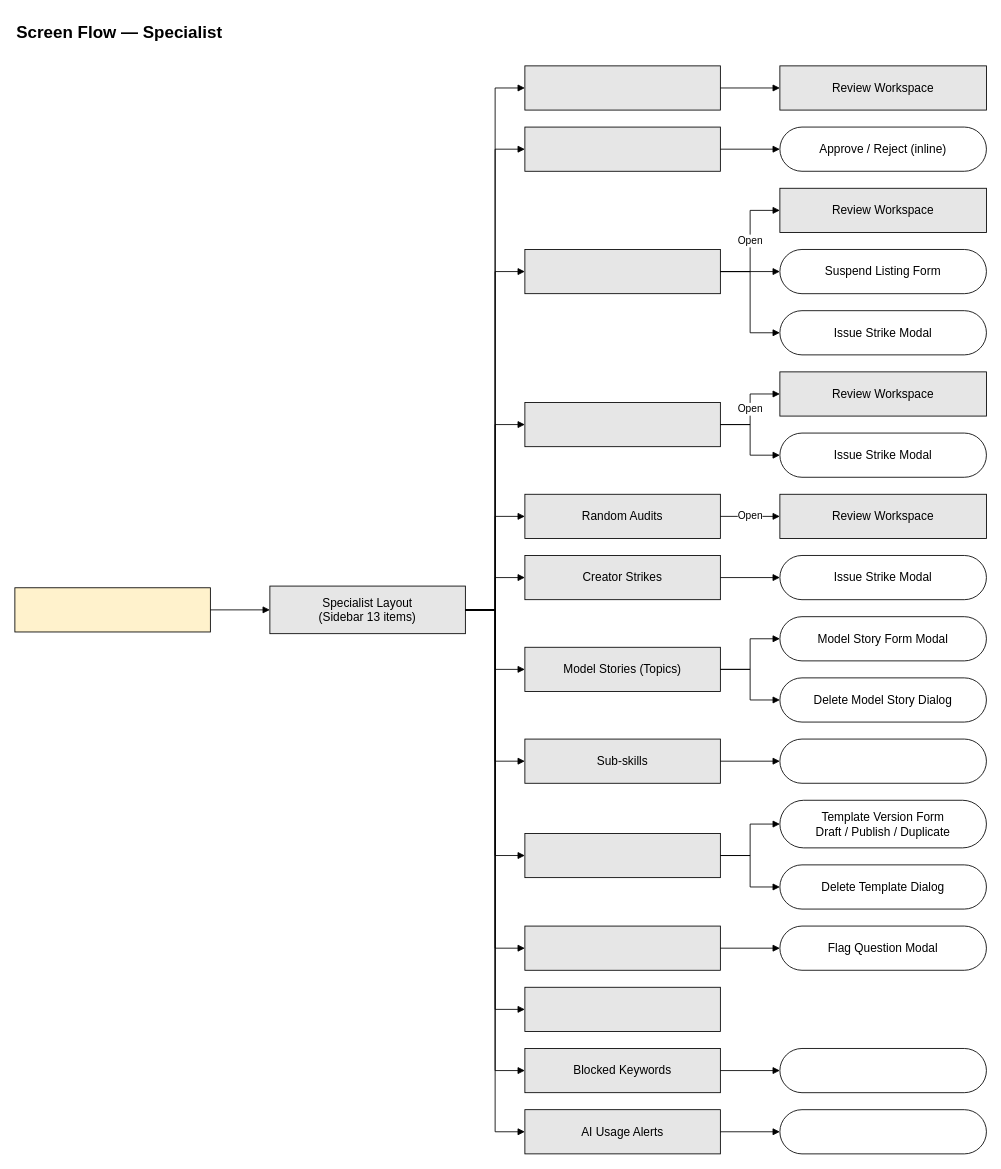
Some shapes in this 1001 by 1169 pixel diagram are drawn without their labels. The shapes that lost their labels are listed below. From the top down, each one's centre as x and y in pixels, then its label:
At pixel 622 87: "Moderation Overview".
At pixel 622 148: "Seller Applications".
At pixel 622 271: "Content Reports".
At pixel 622 424: "Suspended Stories".
At pixel 112 609: "Specialist Login".
At pixel 882 760: "Adjust Sub-skill Modal".
At pixel 622 855: "Question Templates".
At pixel 622 947: "Checkpoint Review".
At pixel 622 1008: "Report Settings".
At pixel 882 1070: "Delete Keyword Dialog".
At pixel 882 1131: "Block AI Usage Form (inline)".
